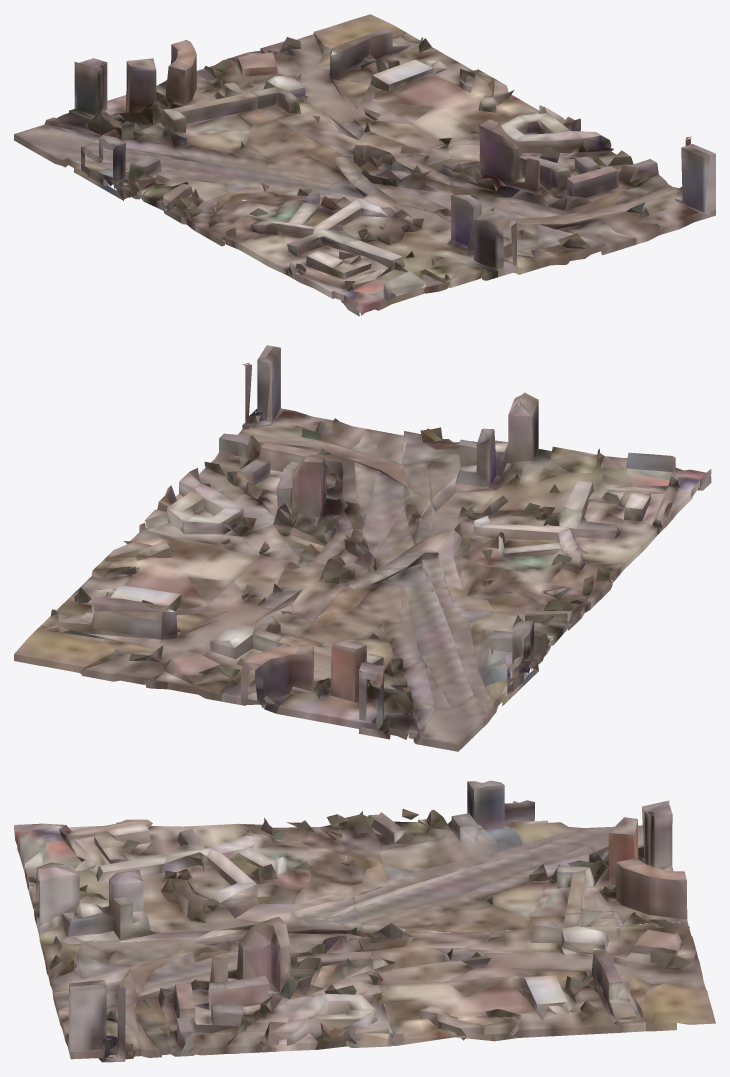
3 views of the same model, one above another, from view 1: azimuth 30°, elevation 25°; view 2: azimuth 150°, elevation 25°; view 3: azimuth 270°, elevation 25° (orthographic). The views are drawn at different scales.
Parts seen in each view (by area): view 1: Mesh_0; view 2: Mesh_0; view 3: Mesh_0.
Part boxes in pixels (bbox=[...]): Mesh_0: bbox=[14, 14, 715, 316]; Mesh_0: bbox=[14, 345, 711, 751]; Mesh_0: bbox=[14, 780, 715, 1062].
Bounding box in the file's own units: 532 × 86.77 × 660.
Materials: 2 (2 with a texture image).
